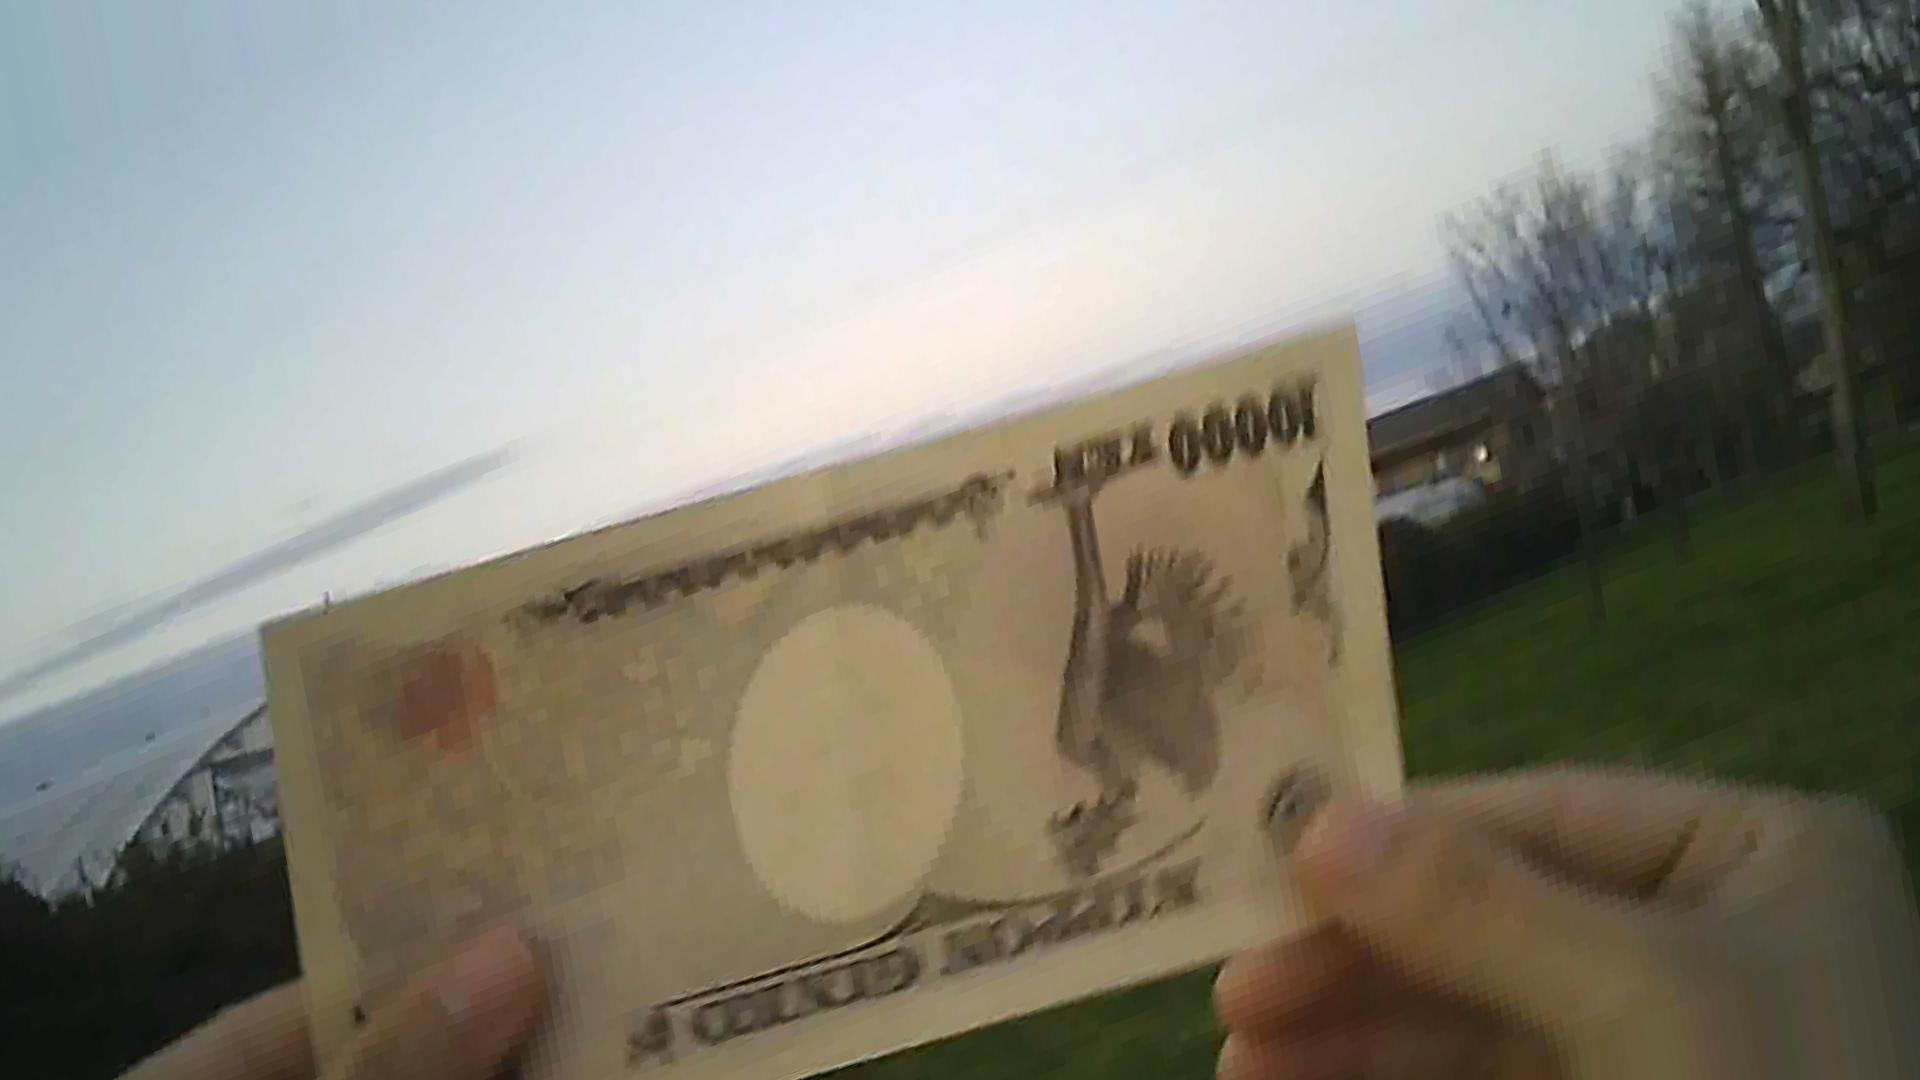10,000 Yen: (228, 344, 1411, 1054)
